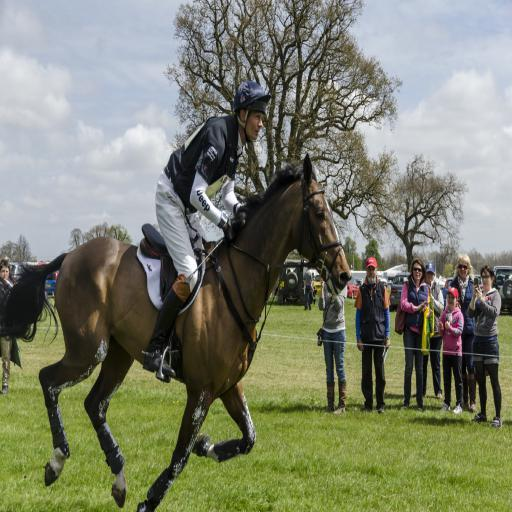Horse: (0, 148, 353, 511)
